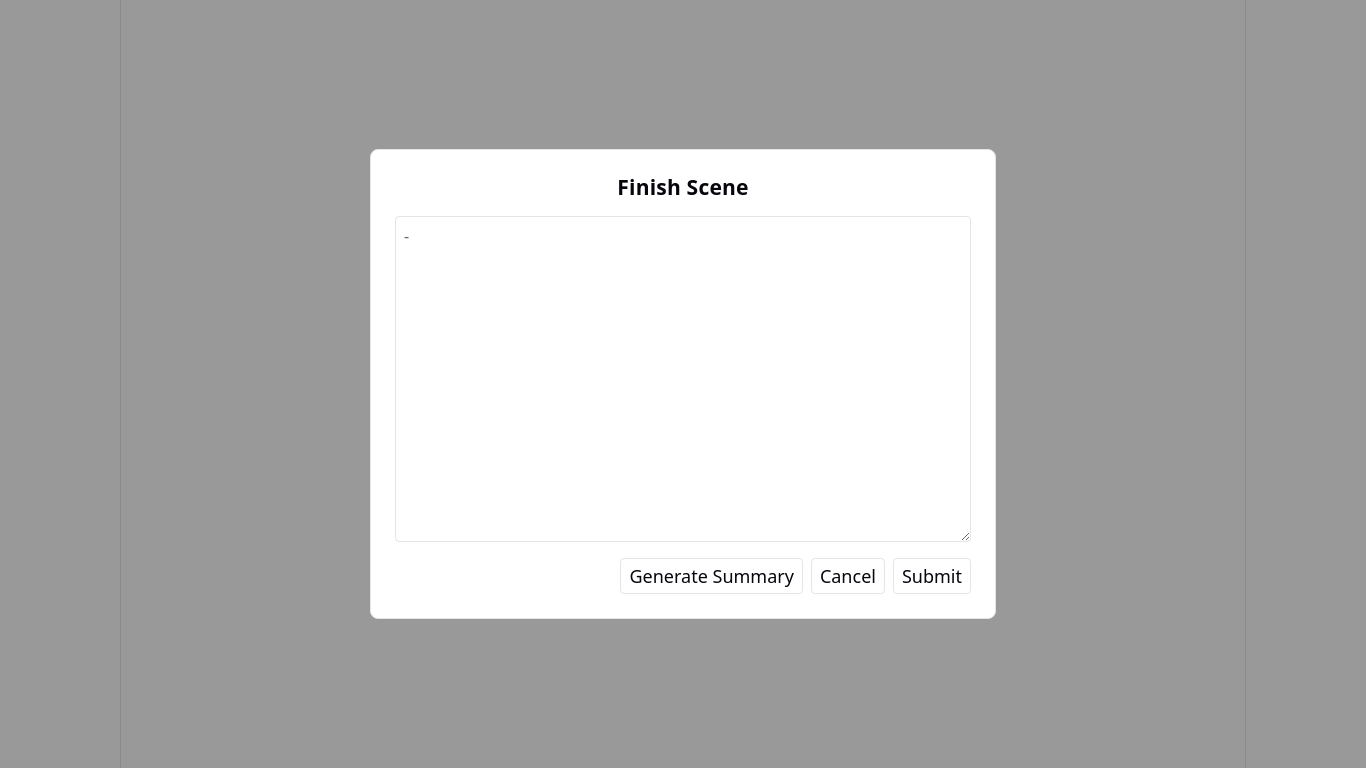
Test: FinishModal › shows error message when generateSceneSummary throws
Click the button "Generate Summary".
click(712, 576)  # box [620,558,803,594]
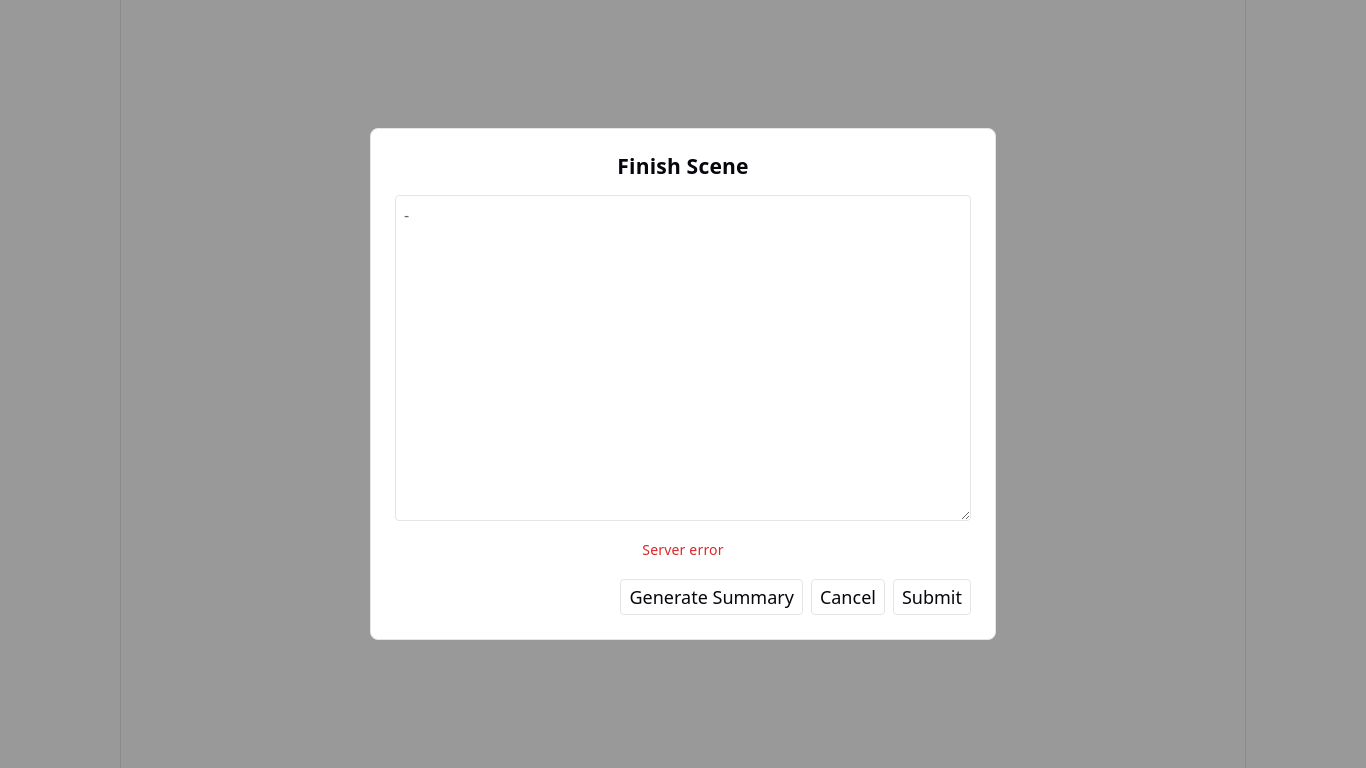
Expected: the text "Server error" is shown, [642,540,724,559]
